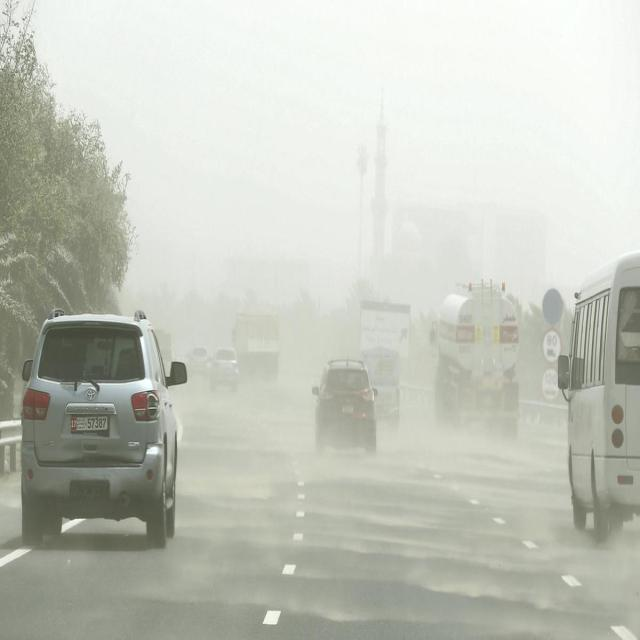bus: (433, 276, 520, 448), (361, 343, 400, 432), (230, 308, 276, 382)
car: (18, 311, 186, 547), (313, 357, 377, 457), (211, 347, 238, 391), (190, 346, 208, 377)
truck: (560, 253, 637, 534)
